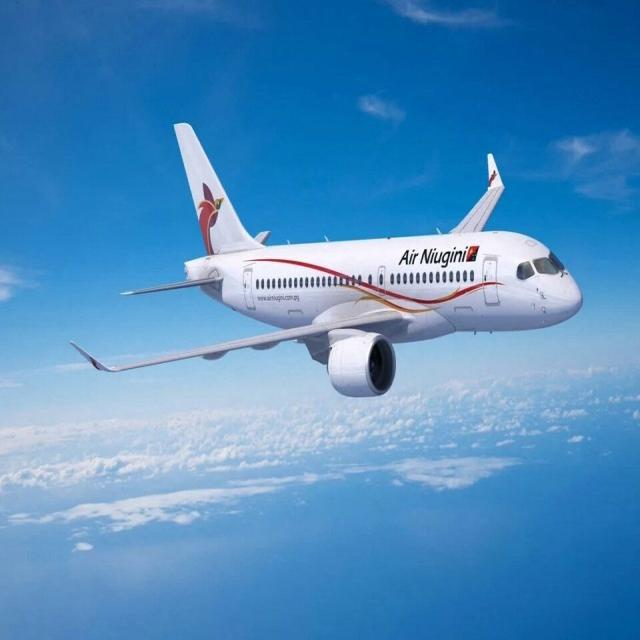aircraft: (20, 44, 640, 513)
